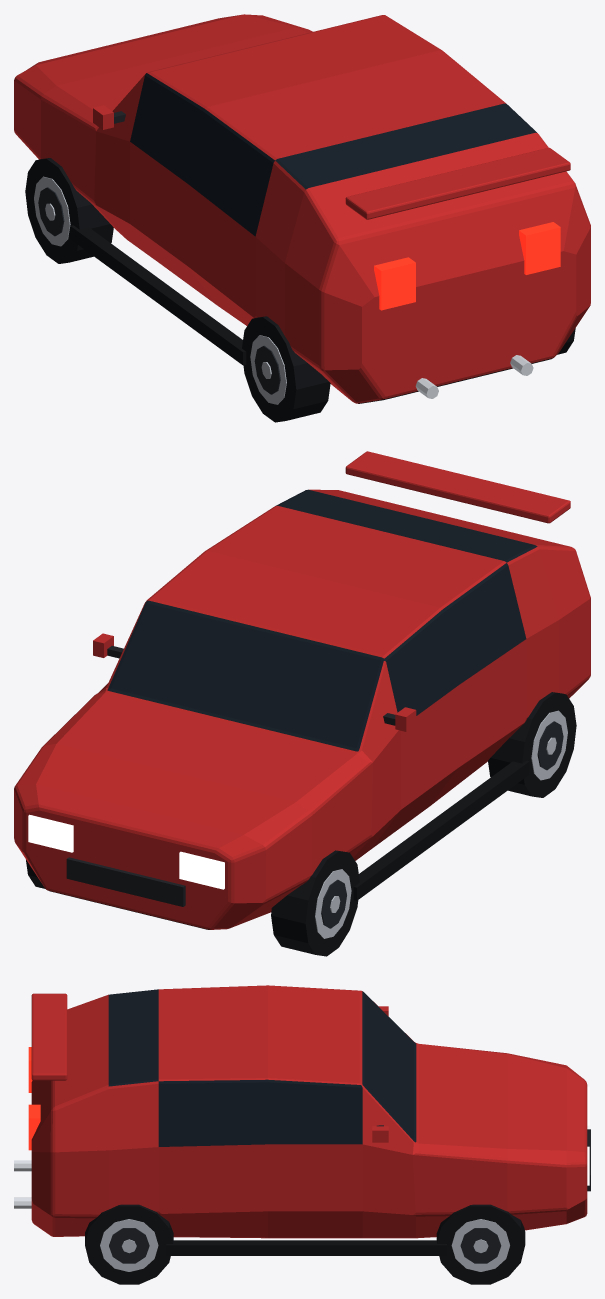
The model's file is car_hatch.glb.
The picture shows the model from 3 angles, top to bottom: view 1: azimuth 30°, elevation 25°; view 2: azimuth 150°, elevation 25°; view 3: azimuth 270°, elevation 25°; orthographic projection. The views are drawn at different scales.
Parts seen in each view (by area): view 1: Body, Wheel_RL, Wheel_FL; view 2: Body, Wheel_FL, Wheel_RL; view 3: Body, Wheel_RR, Wheel_FR.
Part boxes in pixels (bbox=[...]): Body: bbox=[14, 14, 590, 403]; Wheel_RL: bbox=[242, 316, 330, 422]; Wheel_FL: bbox=[25, 158, 113, 263]; Body: bbox=[14, 451, 590, 929]; Wheel_FL: bbox=[271, 850, 359, 956]; Wheel_RL: bbox=[488, 692, 576, 797]; Body: bbox=[14, 985, 590, 1255]; Wheel_RR: bbox=[85, 1204, 173, 1284]; Wheel_FR: bbox=[436, 1204, 525, 1284].
Size of the model in its own units: 1.99 by 1.47 by 3.9.
